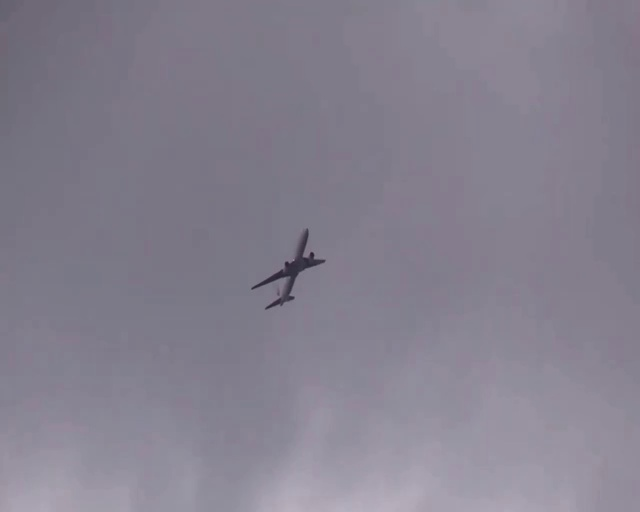AIRPLANE: (250, 228, 326, 309)
